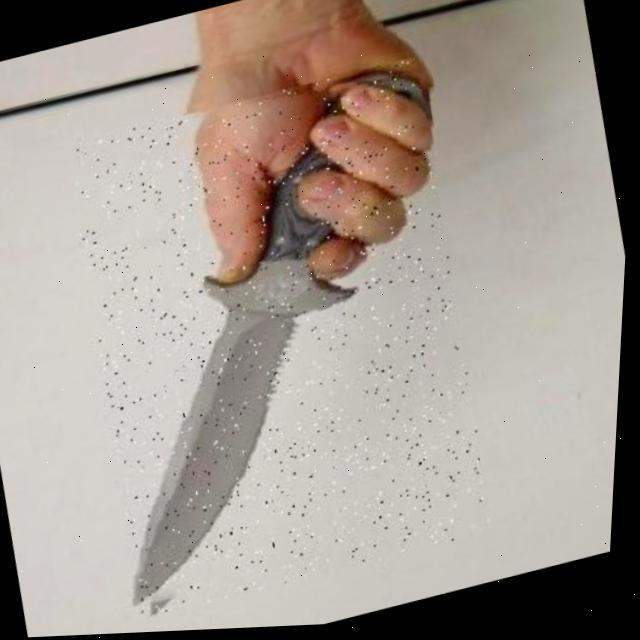knife: (48, 55, 518, 625)
